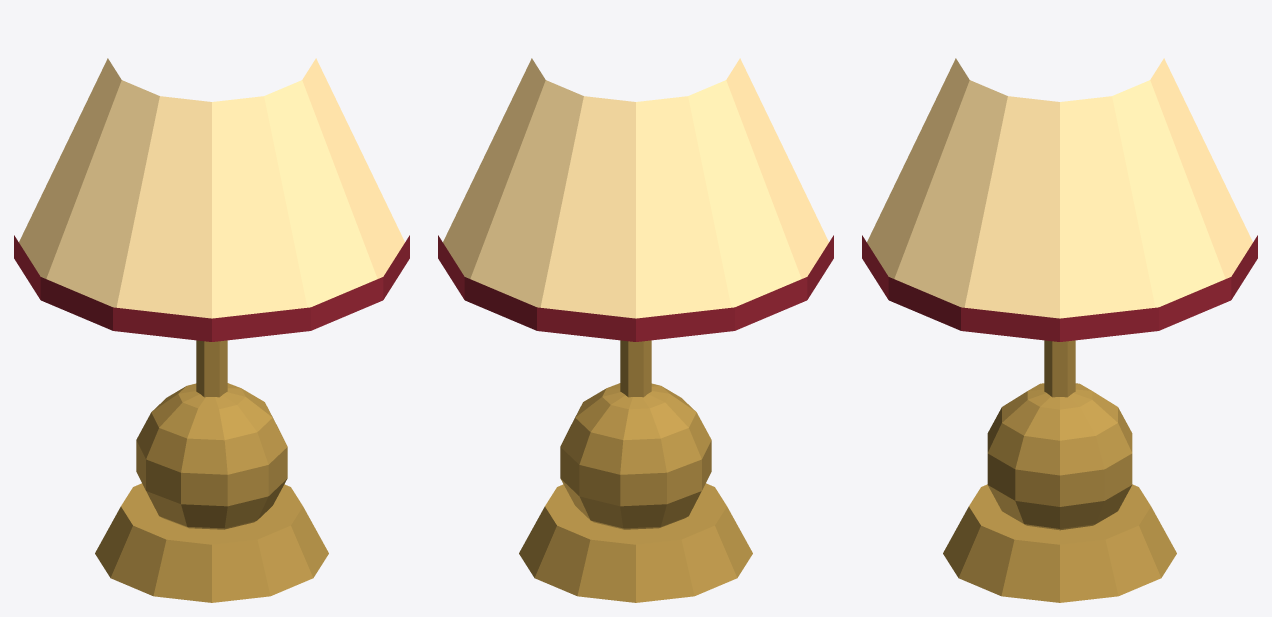
File: hotel_lamp.glb
The picture shows the model from 3 angles, left to right: view 1: azimuth 30°, elevation 25°; view 2: azimuth 150°, elevation 25°; view 3: azimuth 270°, elevation 25°; orthographic projection.
Visible parts, largest first — view 1: shade_lamp_shade, base_lamp_brass, shade_lamp_fringe; view 2: shade_lamp_shade, base_lamp_brass, shade_lamp_fringe; view 3: shade_lamp_shade, base_lamp_brass, shade_lamp_fringe.
Part boxes in pixels (box(x1,y1,x2,y2)): shade_lamp_shade: box(19, 58, 404, 318); base_lamp_brass: box(95, 340, 328, 602); shade_lamp_fringe: box(14, 235, 409, 341); shade_lamp_shade: box(443, 58, 828, 318); base_lamp_brass: box(519, 340, 752, 602); shade_lamp_fringe: box(438, 235, 833, 341); shade_lamp_shade: box(867, 58, 1252, 318); base_lamp_brass: box(943, 340, 1176, 602); shade_lamp_fringe: box(862, 235, 1257, 341).
Size of the model in its own units: 0.304 by 0.42 by 0.304.
